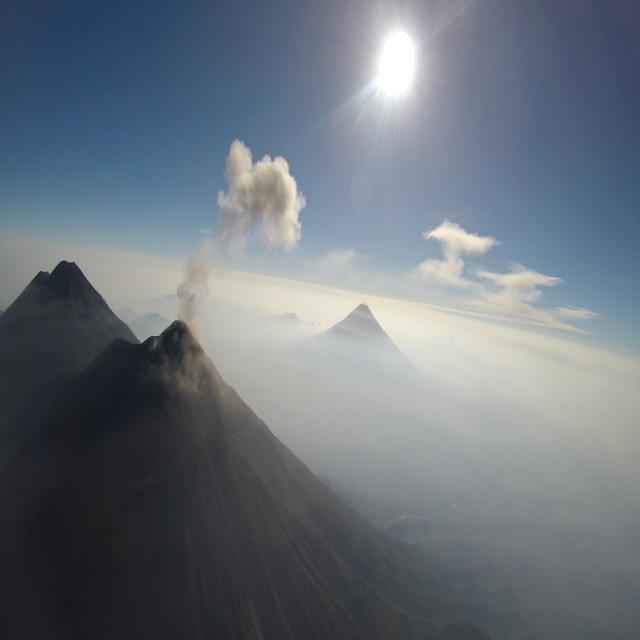Plume: (219, 136, 305, 255), (174, 233, 233, 316)
Summit: (90, 315, 214, 387)
